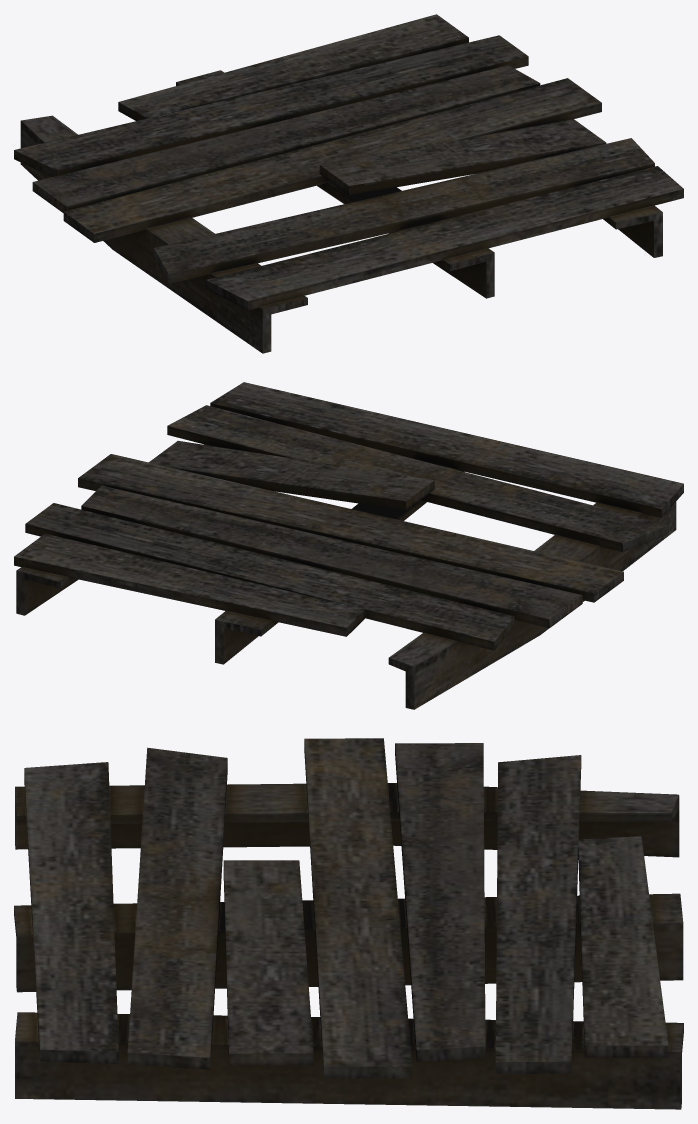
File: CrateBaseSet_03.FBX
3 renders of one model, top to bottom at view 1: azimuth 30°, elevation 25°; view 2: azimuth 150°, elevation 25°; view 3: azimuth 270°, elevation 25°, orthographic. The views are drawn at different scales.
Parts seen in each view (by area): view 1: CrateBaseSet_03; view 2: CrateBaseSet_03; view 3: CrateBaseSet_03.
Boxes of the visible parts, <box> form: CrateBaseSet_03: <box>14,14,683,353</box>; CrateBaseSet_03: <box>14,382,683,709</box>; CrateBaseSet_03: <box>14,738,683,1109</box>.
Bounding box in the file's own units: 138 × 17.52 × 119.
